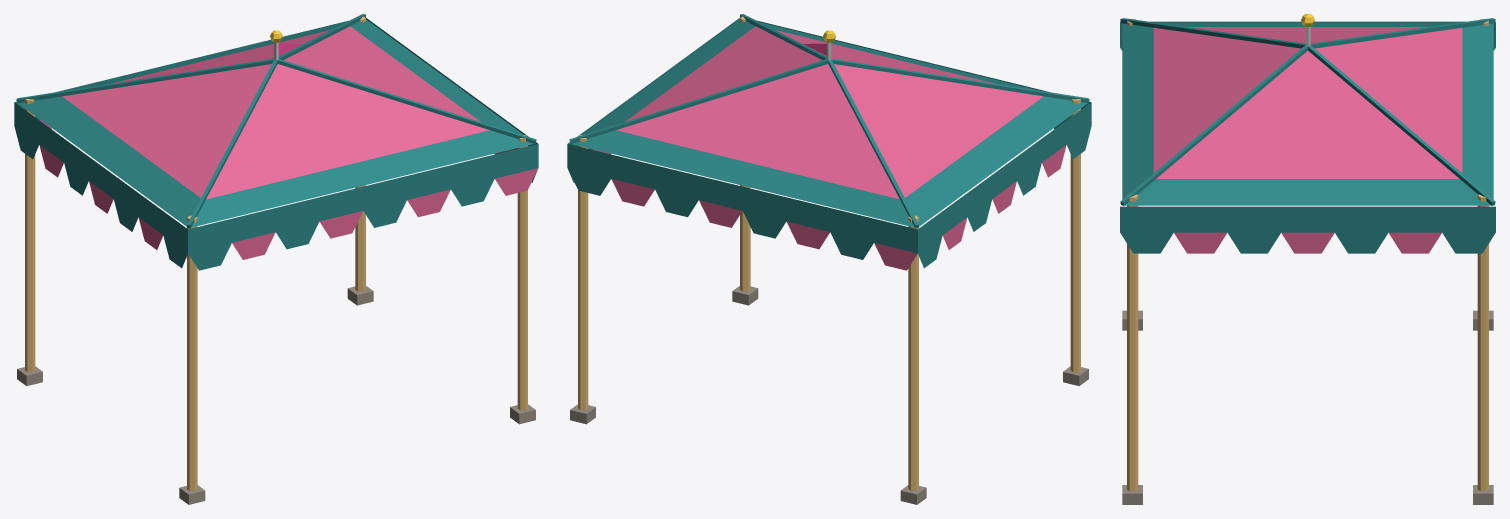
Rendered from canopy_pink.glb.
3 renders of one model, left to right at view 1: azimuth 30°, elevation 25°; view 2: azimuth 150°, elevation 25°; view 3: azimuth 270°, elevation 25°, orthographic. The views are drawn at different scales.
Visible parts, largest first — view 1: canopy_pink; view 2: canopy_pink; view 3: canopy_pink.
Part boxes in pixels (box(x1,y1,x2,y2)): canopy_pink: box(14, 14, 538, 504); canopy_pink: box(567, 14, 1091, 504); canopy_pink: box(1120, 14, 1495, 504).
Size of the model in its own units: 4.24 by 4.27 by 3.64.
Materials: 1 (1 with a texture image).
